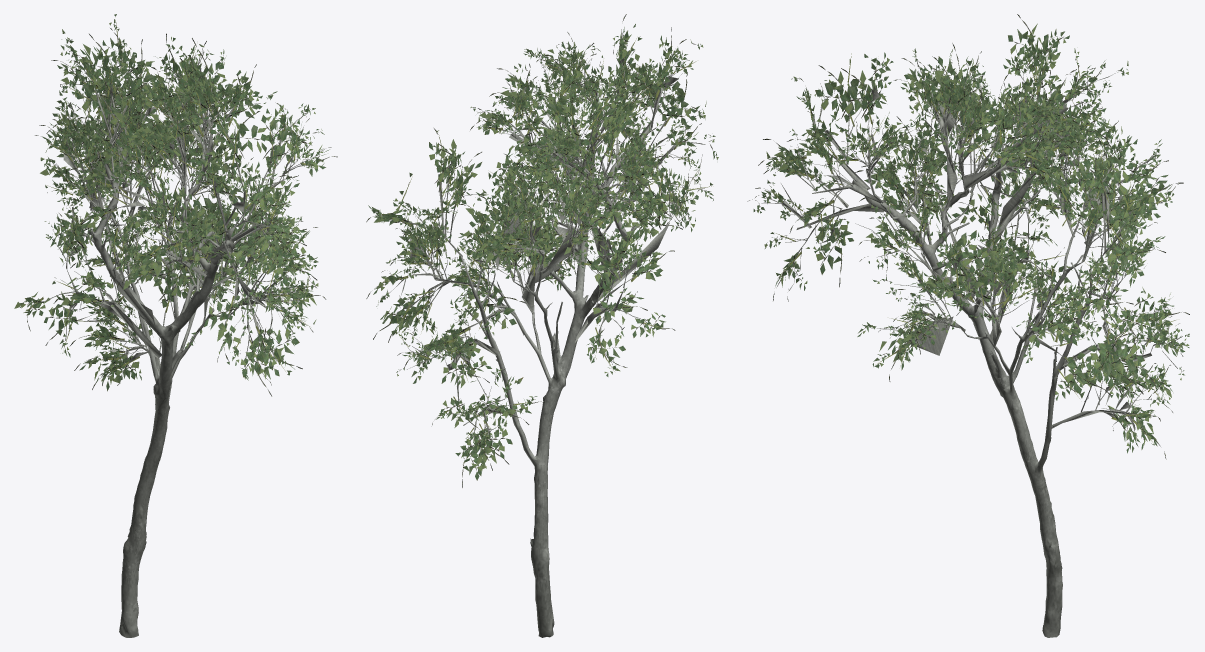
File: natural-birch-quiet.glb
3 views of the same model, side by side, from view 1: azimuth 30°, elevation 25°; view 2: azimuth 150°, elevation 25°; view 3: azimuth 270°, elevation 25° (orthographic). The views are drawn at different scales.
Visible parts, largest first — view 1: natural-birch-quiet runtime mesh; view 2: natural-birch-quiet runtime mesh; view 3: natural-birch-quiet runtime mesh.
Boxes of the visible parts, bbox=[...] form: natural-birch-quiet runtime mesh: bbox=[14, 14, 337, 637]; natural-birch-quiet runtime mesh: bbox=[366, 14, 718, 637]; natural-birch-quiet runtime mesh: bbox=[747, 14, 1189, 637].
Size of the model in its own units: 2.33 by 5.07 by 3.44.
3 materials, 3 textured.
